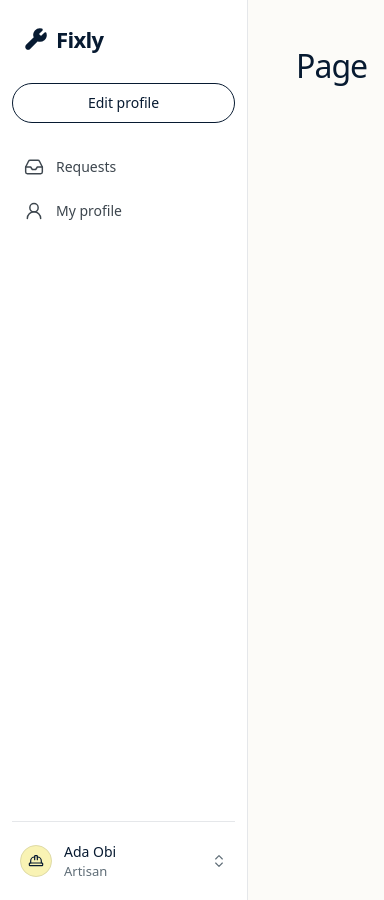
Test: account menu opens and Sign out calls signOut
Later steps or results of the test are not shown.
What coordinates should you click on to do the following:
click the button with aria-label "Account menu"
I would click on:
 (124, 861)
Its box is [12,834,235,888].
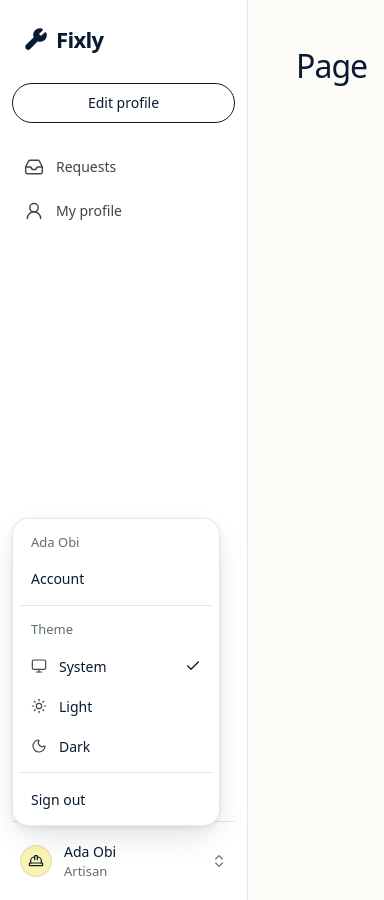
Check: the menu item "Account" is shown, box [31,569,84,588]
